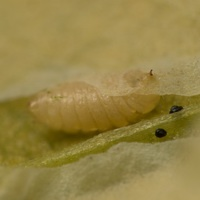insect: (29, 82, 159, 132), (169, 105, 182, 113)
